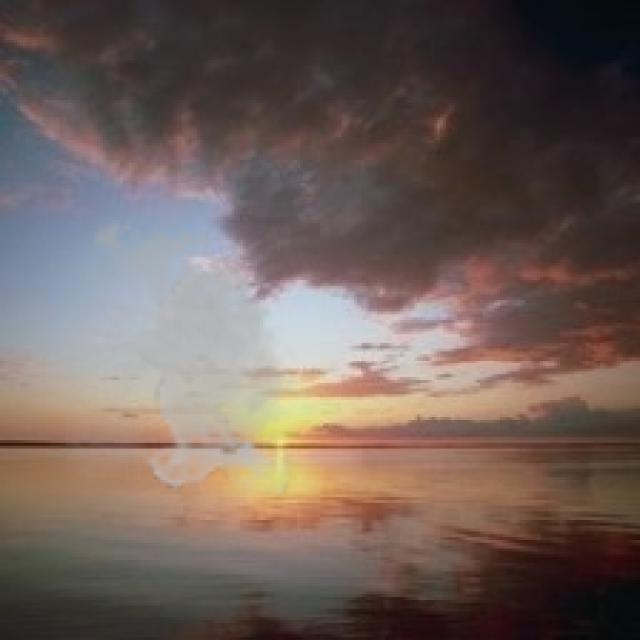smoke: (66, 212, 303, 494)
